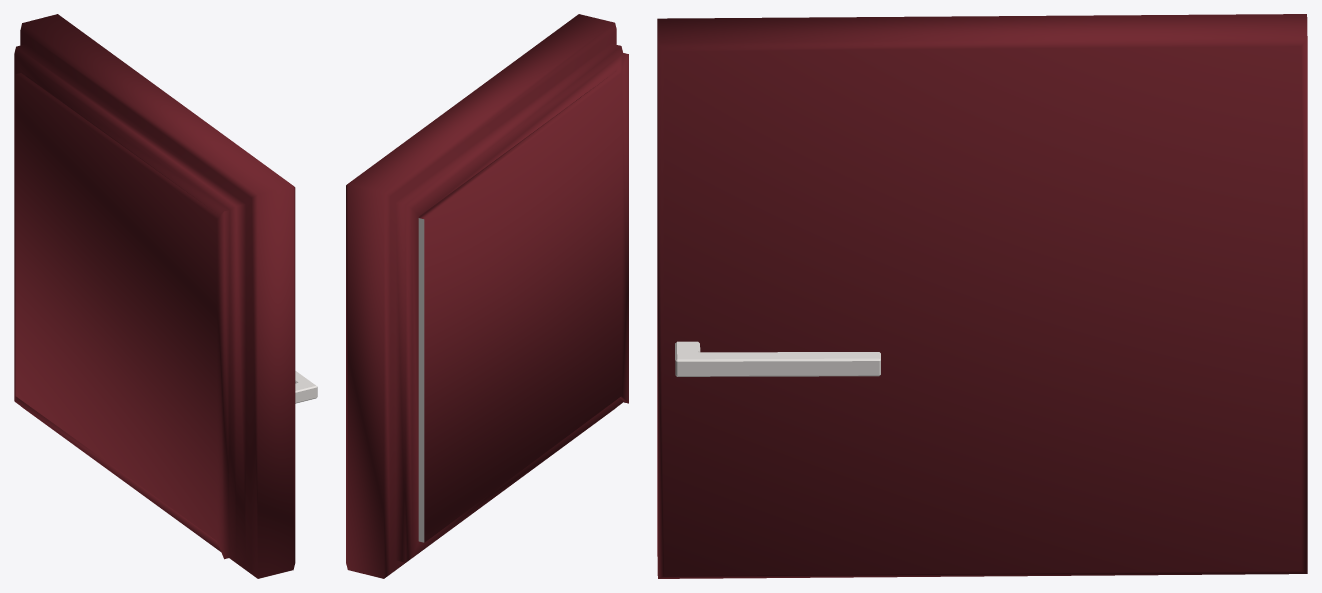
The model's file is Pintu atas.fbx.
3 renders of one model, left to right at view 1: azimuth 30°, elevation 25°; view 2: azimuth 150°, elevation 25°; view 3: azimuth 270°, elevation 25°, orthographic. The views are drawn at different scales.
Parts seen in each view (by area): view 1: Cube.003; view 2: Cube.003; view 3: Cube.003.
Boxes of the visible parts, bbox=[...] form: Cube.003: bbox=[14, 14, 317, 578]; Cube.003: bbox=[346, 14, 628, 578]; Cube.003: bbox=[657, 14, 1307, 578].
Bounding box in the file's own units: 60.21 × 239 × 261.
